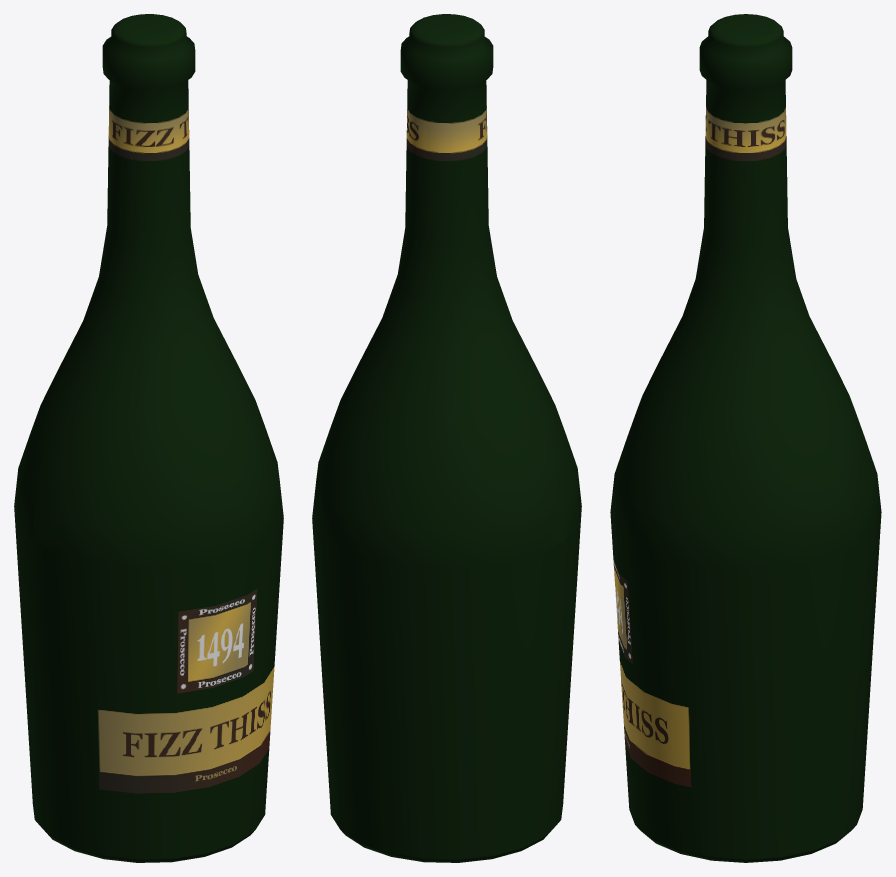
File: Bottle_FizzThiss.fbx
3 renders of one model, left to right at view 1: azimuth 30°, elevation 25°; view 2: azimuth 150°, elevation 25°; view 3: azimuth 270°, elevation 25°, orthographic.
Visible parts, largest first — view 1: pCylinder1; view 2: pCylinder1; view 3: pCylinder1.
Boxes of the visible parts, <box> form: pCylinder1: <box>14,14,283,862</box>; pCylinder1: <box>312,14,581,862</box>; pCylinder1: <box>610,14,881,862</box>.
Bounding box in the file's own units: 1.97 × 6.38 × 1.97.
